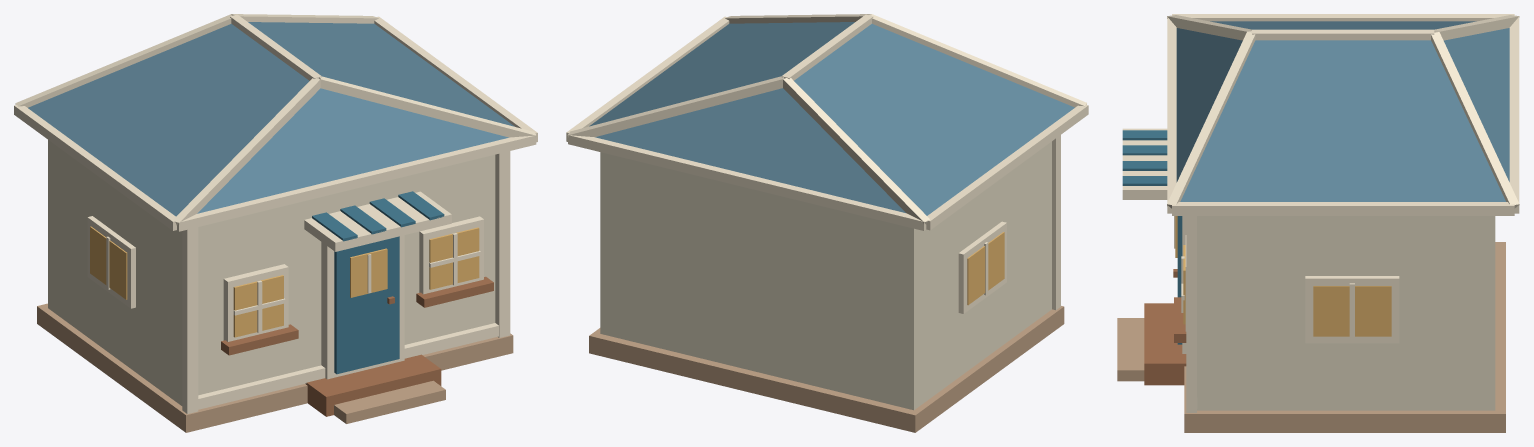
The picture shows the model from 3 angles, left to right: view 1: azimuth 30°, elevation 25°; view 2: azimuth 150°, elevation 25°; view 3: azimuth 270°, elevation 25°; orthographic projection. The views are drawn at different scales.
Visible parts, largest first — view 1: Hip roof, House shell, Foundation, Painted door, Front eaves, Entrance porch, Facade base trim, Quoin, Striped coastal canopy, Quoin.001, Entrance casing, West eaves (+20 smaller); view 2: House shell, Hip roof, Foundation, Back eaves, West eaves, Back right rake, Back left rake, Front left rake, West window glazing, East eaves, Quoin, West window frame (+2 smaller); view 3: Hip roof, House shell, Foundation, East eaves, East window glazing, Entrance porch, East window frame, West eaves, Front right rake, Back right rake, Quoin.001, Ridge cap (+12 smaller).
Boxes of the visible parts, x1=… form: Hip roof: x1=28, y1=22, x2=514, y2=216; House shell: x1=48, y1=140, x2=495, y2=405; Foundation: x1=37, y1=303, x2=513, y2=432; Painted door: x1=334, y1=236, x2=399, y2=374; Front eaves: x1=177, y1=135, x2=536, y2=231; Entrance porch: x1=305, y1=354, x2=441, y2=416; Facade base trim: x1=198, y1=323, x2=498, y2=409; Quoin: x1=182, y1=227, x2=198, y2=413; Striped coastal canopy: x1=304, y1=191, x2=451, y2=251; Quoin.001: x1=495, y1=151, x2=510, y2=337; Entrance casing: x1=321, y1=235, x2=404, y2=379; West eaves: x1=14, y1=105, x2=176, y2=230; House shell: x1=600, y1=141, x2=1051, y2=410; Hip roof: x1=589, y1=22, x2=1074, y2=215; Foundation: x1=589, y1=306, x2=1064, y2=432; Back eaves: x1=568, y1=135, x2=926, y2=230; West eaves: x1=926, y1=104, x2=1088, y2=230; Back right rake: x1=567, y1=76, x2=784, y2=137; Back left rake: x1=783, y1=78, x2=929, y2=224; Front left rake: x1=871, y1=14, x2=1086, y2=107; West window glazing: x1=967, y1=232, x2=1004, y2=305; East eaves: x1=566, y1=16, x2=729, y2=141; Quoin: x1=1052, y1=135, x2=1060, y2=310; West window frame: x1=958, y1=221, x2=1006, y2=313; Hip roof: x1=1176, y1=21, x2=1509, y2=201; House shell: x1=1197, y1=216, x2=1495, y2=410; Foundation: x1=1184, y1=242, x2=1505, y2=432; East eaves: x1=1172, y1=202, x2=1514, y2=215; East window glazing: x1=1313, y1=286, x2=1391, y2=336; Entrance porch: x1=1144, y1=303, x2=1186, y2=385; East window frame: x1=1305, y1=276, x2=1399, y2=343; West eaves: x1=1172, y1=14, x2=1514, y2=21; Front right rake: x1=1167, y1=32, x2=1255, y2=208; Back right rake: x1=1431, y1=32, x2=1519, y2=208; Quoin.001: x1=1186, y1=216, x2=1196, y2=412; Ridge cap: x1=1252, y1=29, x2=1434, y2=40.
Bounding box in the file's own units: 4.99 × 3.82 × 4.42.
